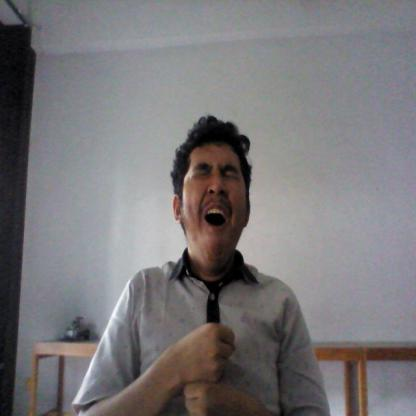G: (174, 321, 244, 416)
